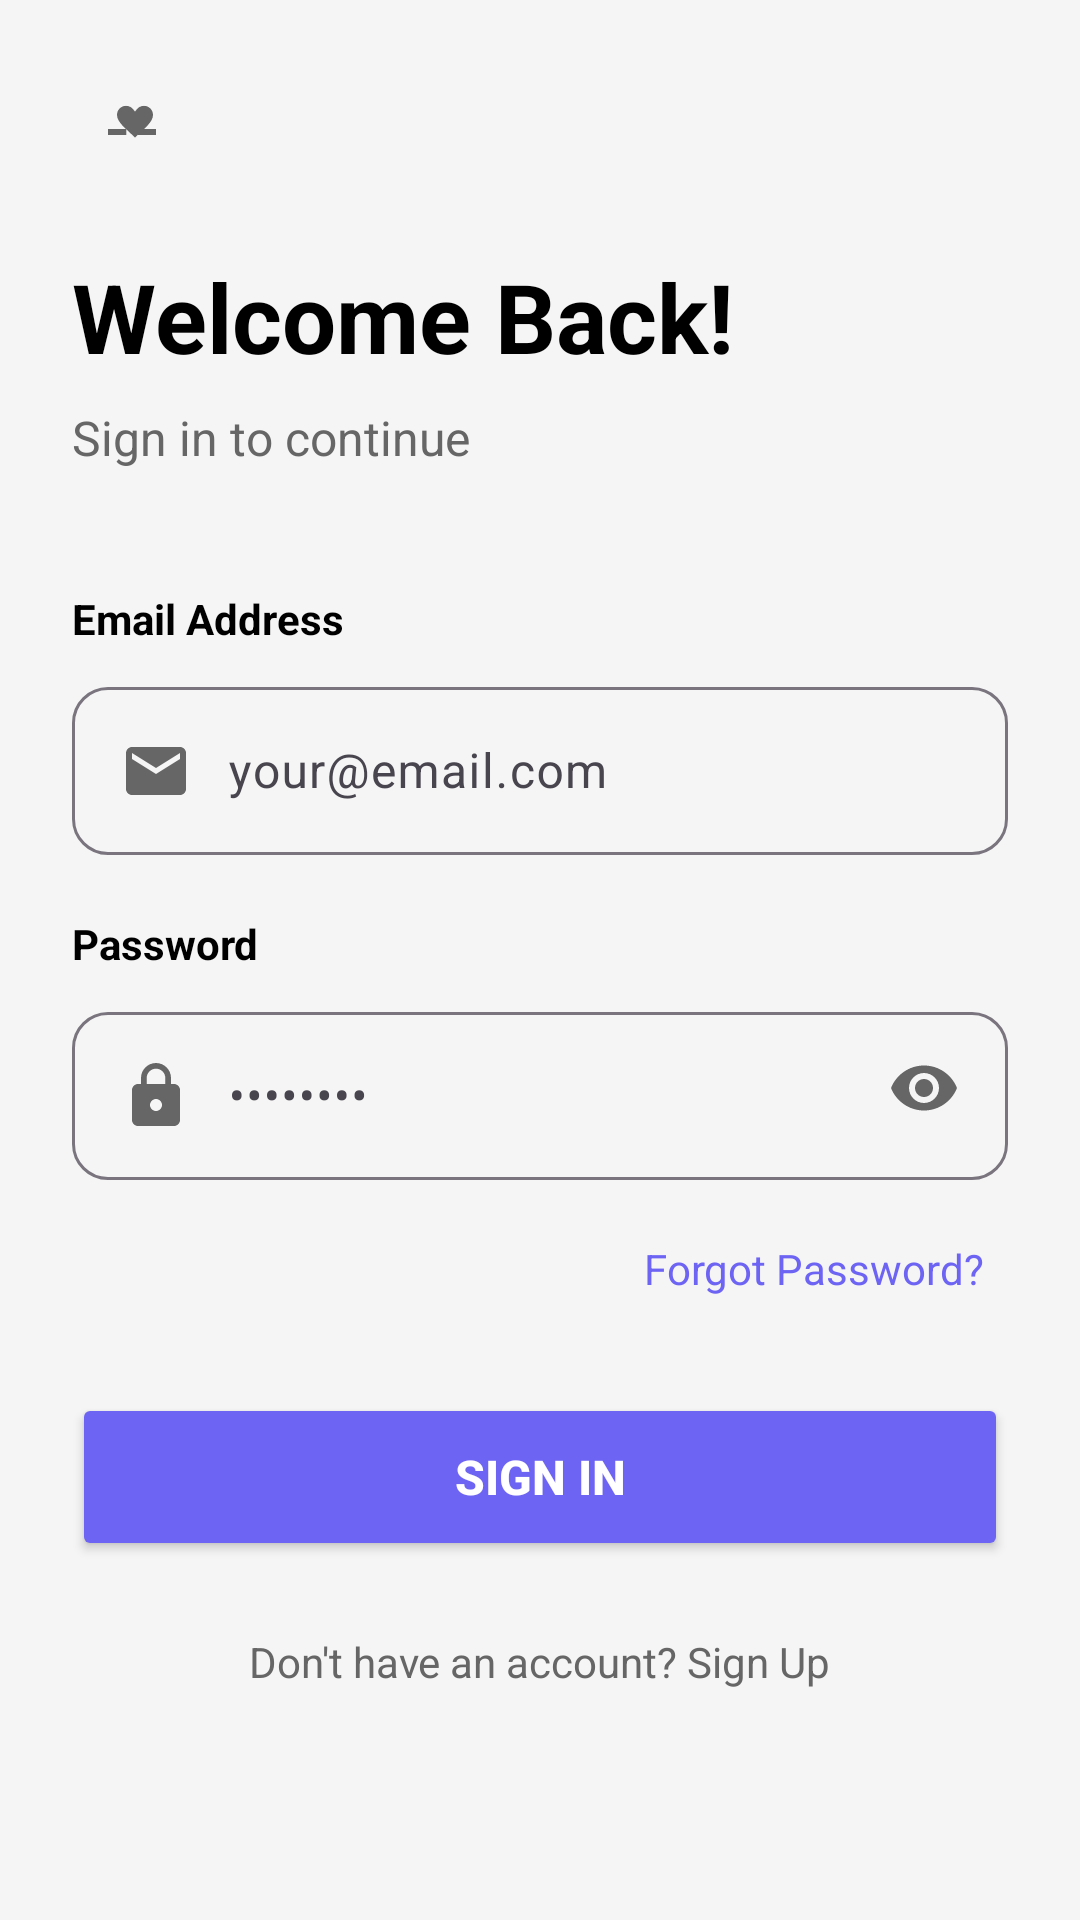

Point at icon controls on the screen. Image size 1080 × 1920, points as [x,y].
Toggle password: [924,1088]
